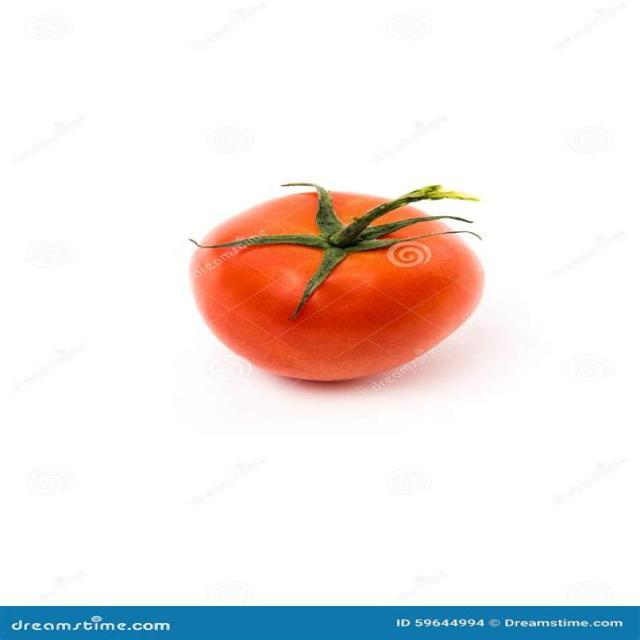Tomato: (188, 184, 487, 385)
